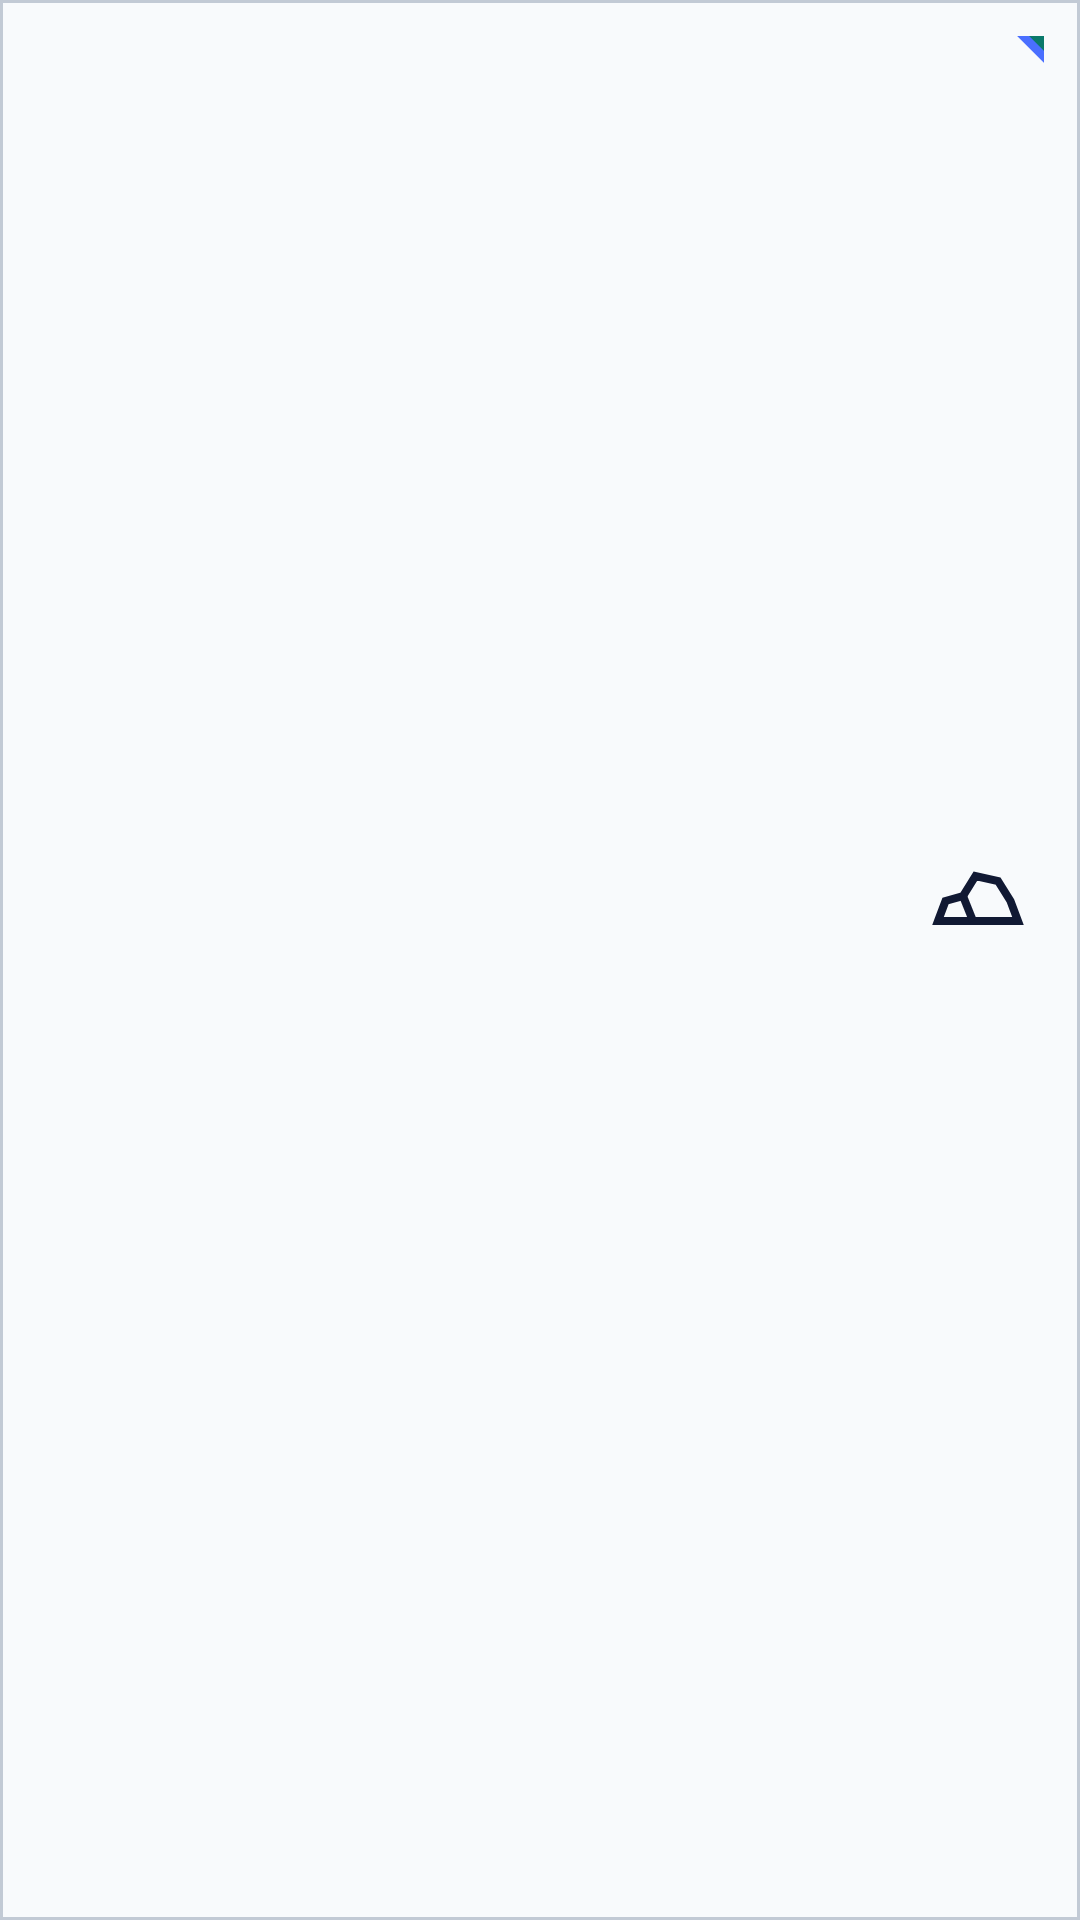

Named icons in this screenshot (1080px x 1920px) and their bounding boxes, box(x1, y1, x2, y2):
widget fold: box(1017, 36, 1044, 63)
